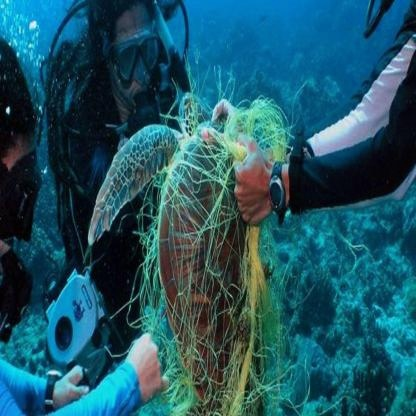net: (157, 126, 290, 416)
